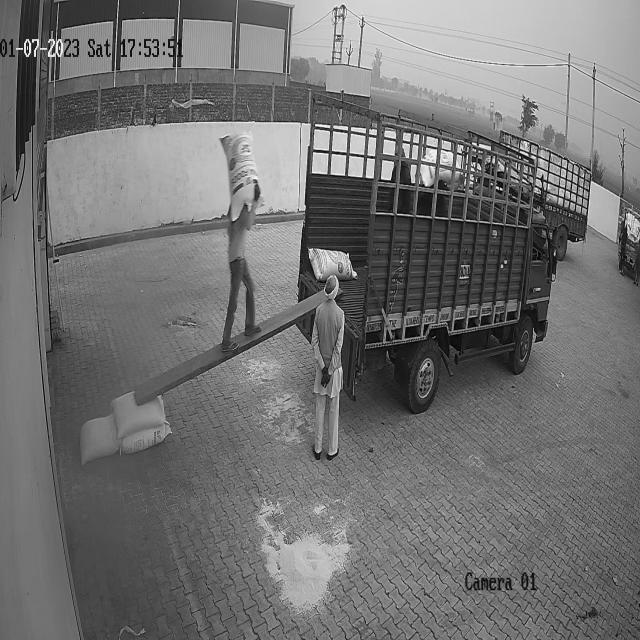sack: (220, 132, 258, 222), (110, 392, 165, 436), (78, 413, 118, 463), (308, 247, 357, 283), (120, 423, 171, 452)
